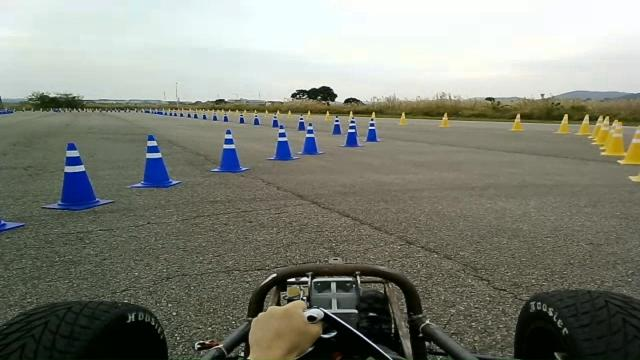blue cone: (41, 142, 114, 210), (128, 134, 182, 188), (210, 128, 250, 173), (266, 124, 300, 160), (296, 122, 324, 155), (339, 118, 364, 147), (364, 119, 381, 142), (0, 219, 25, 232)
yellow cone: (617, 125, 639, 165), (600, 124, 626, 156), (554, 113, 572, 134), (574, 113, 591, 135), (592, 127, 610, 145), (591, 115, 605, 138), (628, 171, 639, 182)
